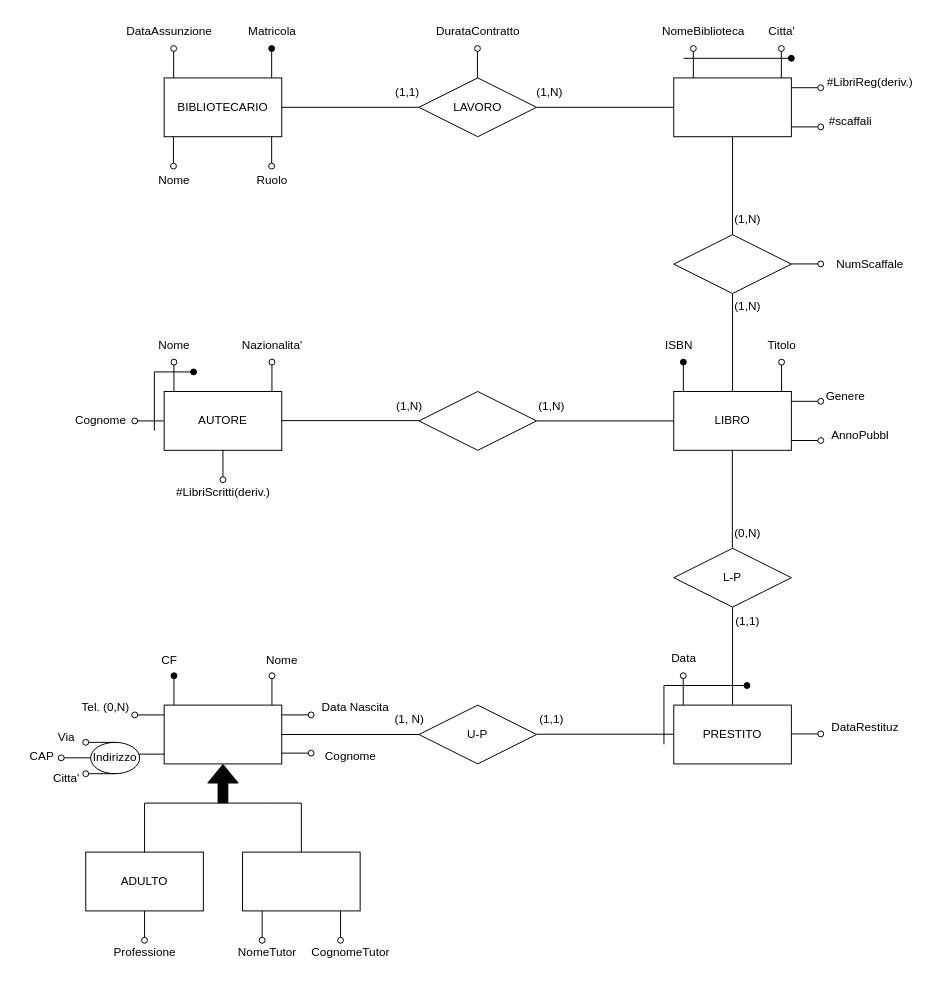
This 940x984 diagram has some shape labels left out. The shapes that lost their labels are listed below. From the top down, each one's centre as x and y in pixels, then its label:
the point at 732,107: BIBLIOTECA
the point at 732,264: COLLOCAZIONE
the point at 477,420: SCRITTURA
the point at 222,734: UTENTE
the point at 301,881: BAMBINO
